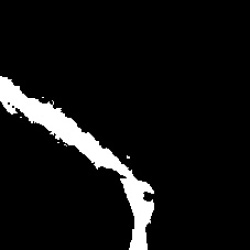crack: (0, 74, 157, 247)
pinhole: (125, 152, 132, 160)
